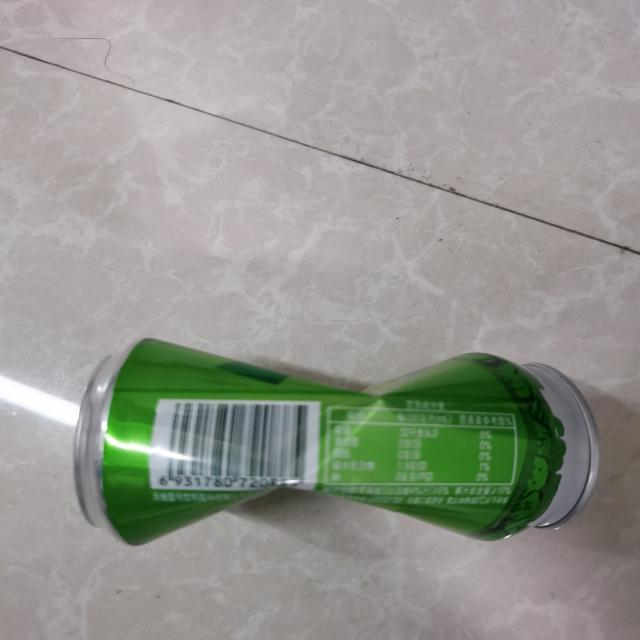kimloai: (75, 339, 598, 544)
